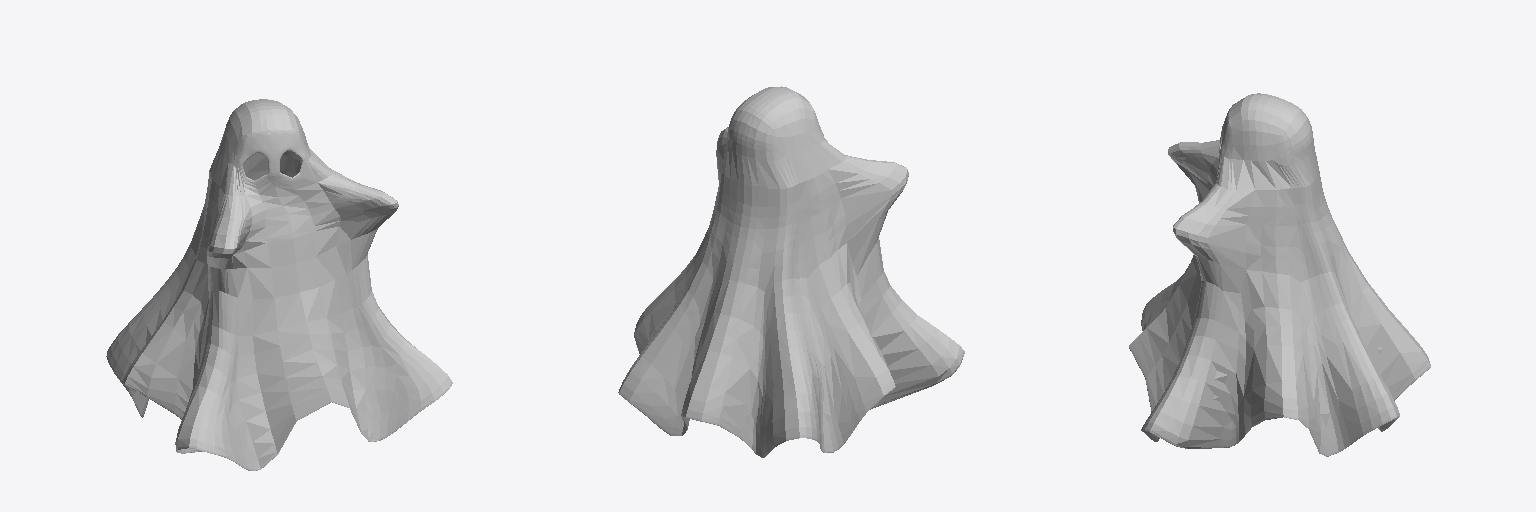
3 renders of one model, left to right at view 1: azimuth 30°, elevation 25°; view 2: azimuth 150°, elevation 25°; view 3: azimuth 270°, elevation 25°, orthographic.
Parts seen in each view (by area): view 1: youlinguu2:Group3 walk1; view 2: youlinguu2:Group3 walk1; view 3: youlinguu2:Group3 walk1.
Boxes of the visible parts, box(x1,y1,x2,y2) form: youlinguu2:Group3 walk1: box(106, 99, 452, 470); youlinguu2:Group3 walk1: box(618, 86, 964, 457); youlinguu2:Group3 walk1: box(1129, 93, 1430, 456).
Bounding box in the file's own units: 35.43 × 39.4 × 34.35.